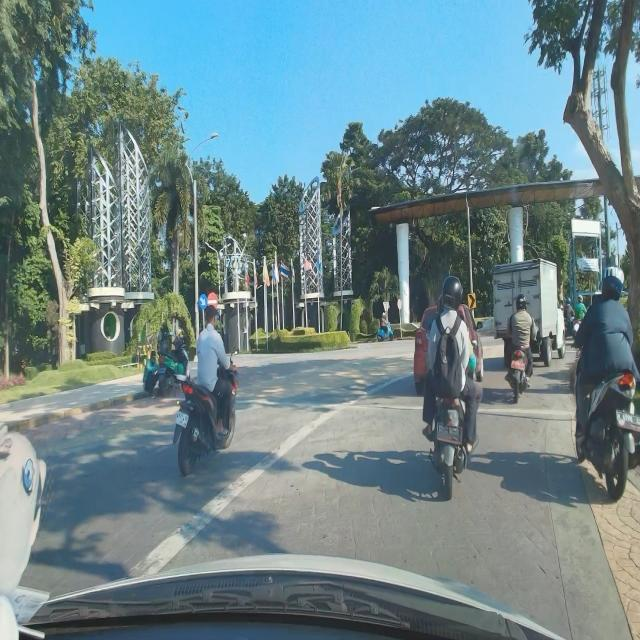car: (412, 302, 484, 395)
truck: (490, 256, 567, 368)
